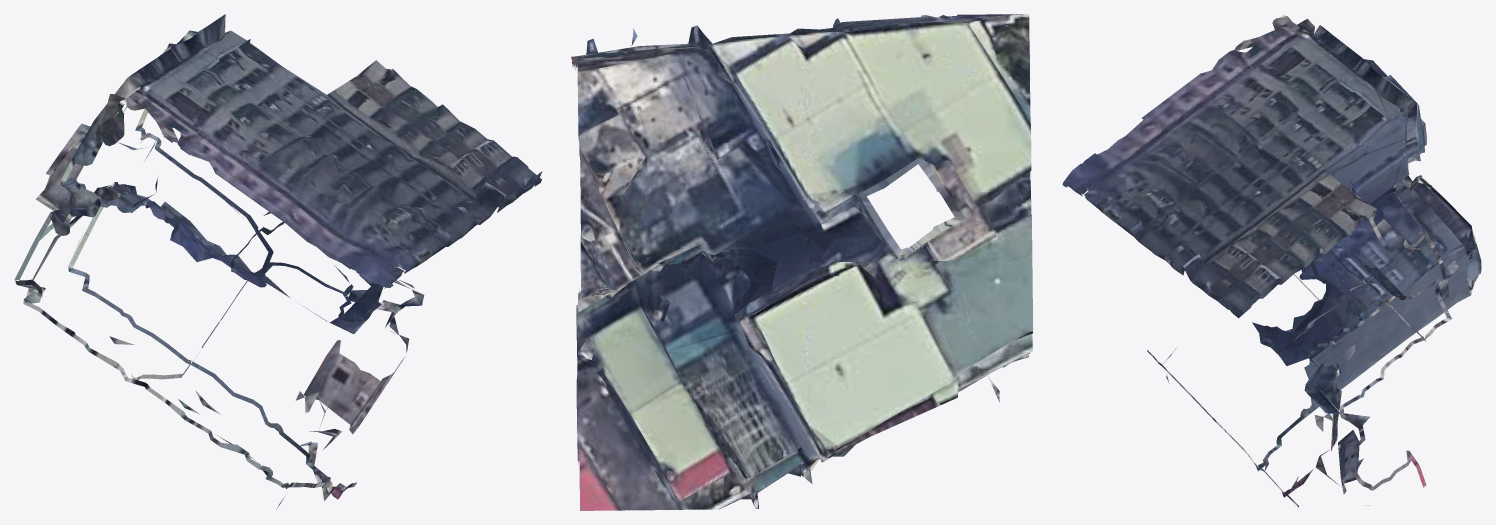
3 renders of one model, left to right at view 1: azimuth 30°, elevation 25°; view 2: azimuth 150°, elevation 25°; view 3: azimuth 270°, elevation 25°, orthographic. The views are drawn at different scales.
Size of the model in its own units: 49.87 by 48.22 by 46.47.
Materials: 1 (1 with a texture image).
